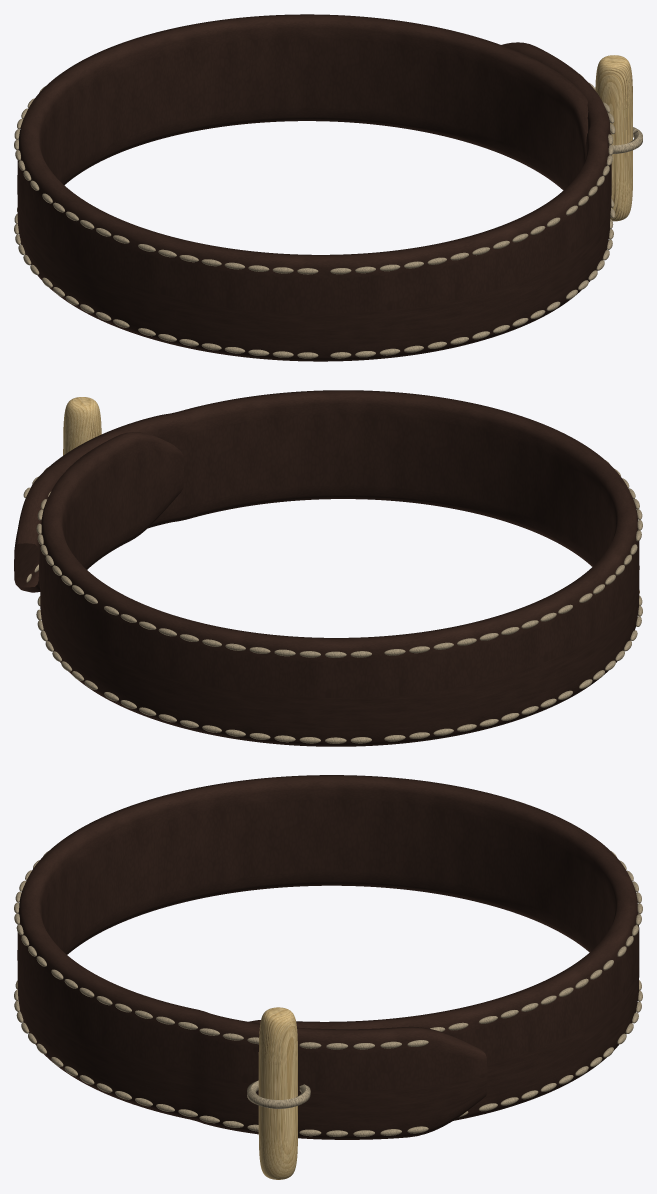
Rendered from ciemna.glb.
The picture shows the model from 3 angles, top to bottom: view 1: azimuth 30°, elevation 25°; view 2: azimuth 150°, elevation 25°; view 3: azimuth 270°, elevation 25°; orthographic projection. The views are drawn at different scales.
Visible parts, largest first — view 1: pas_skory.002, bead_peg_1; view 2: pas_skory.002, bead_peg_1; view 3: pas_skory.002, bead_peg_1, petla.002.
Part boxes in pixels (<box>): pas_skory.002: <box>17,14,611,361</box>; bead_peg_1: <box>595,55,632,221</box>; pas_skory.002: <box>14,390,639,746</box>; bead_peg_1: <box>63,397,101,455</box>; pas_skory.002: <box>17,775,639,1139</box>; bead_peg_1: <box>258,1007,297,1179</box>; petla.002: <box>247,1080,310,1108</box>.
Bounding box in the file's own units: 6.8 × 1.84 × 6.39.
3 materials, 3 textured.
